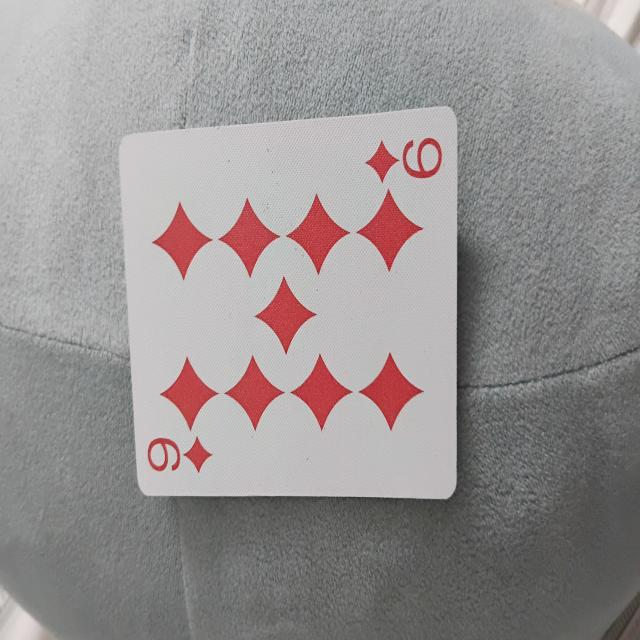9D: (128, 102, 454, 503)
